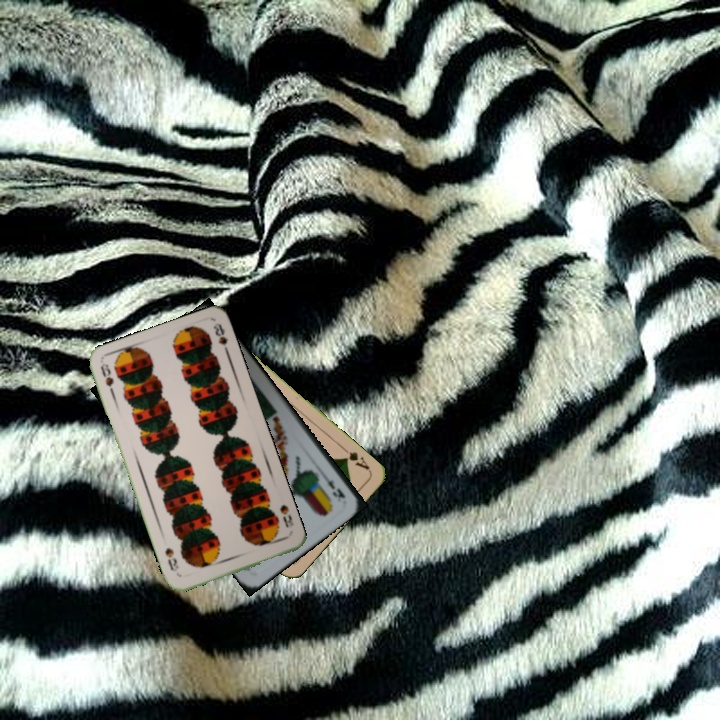EK: (317, 469, 348, 505)
GA: (338, 443, 372, 474)
S8: (96, 359, 117, 400), (276, 500, 296, 530)
